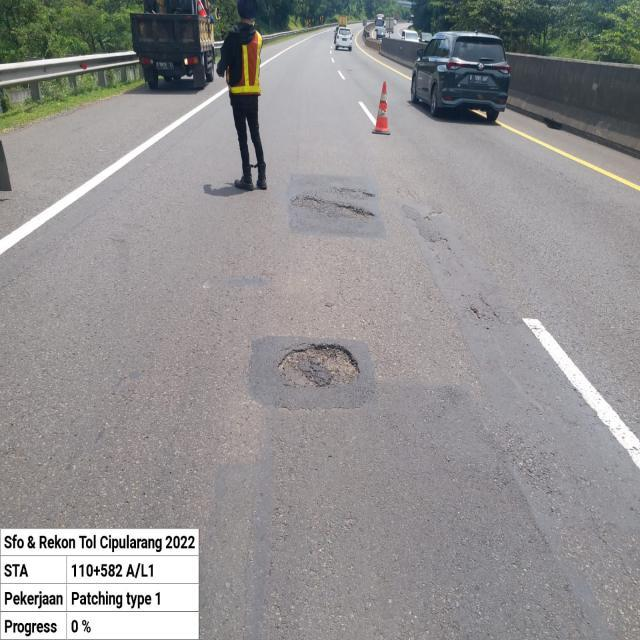Buraco: (274, 341, 363, 390), (289, 194, 376, 226)
